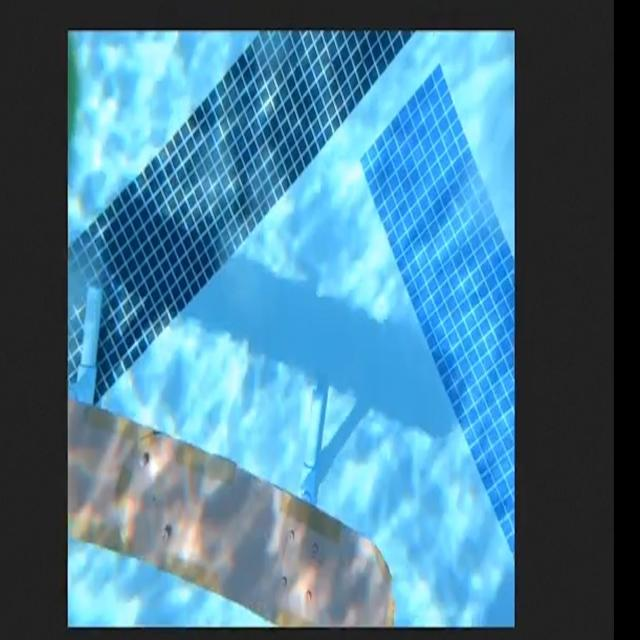Path: (68, 350, 402, 628)
